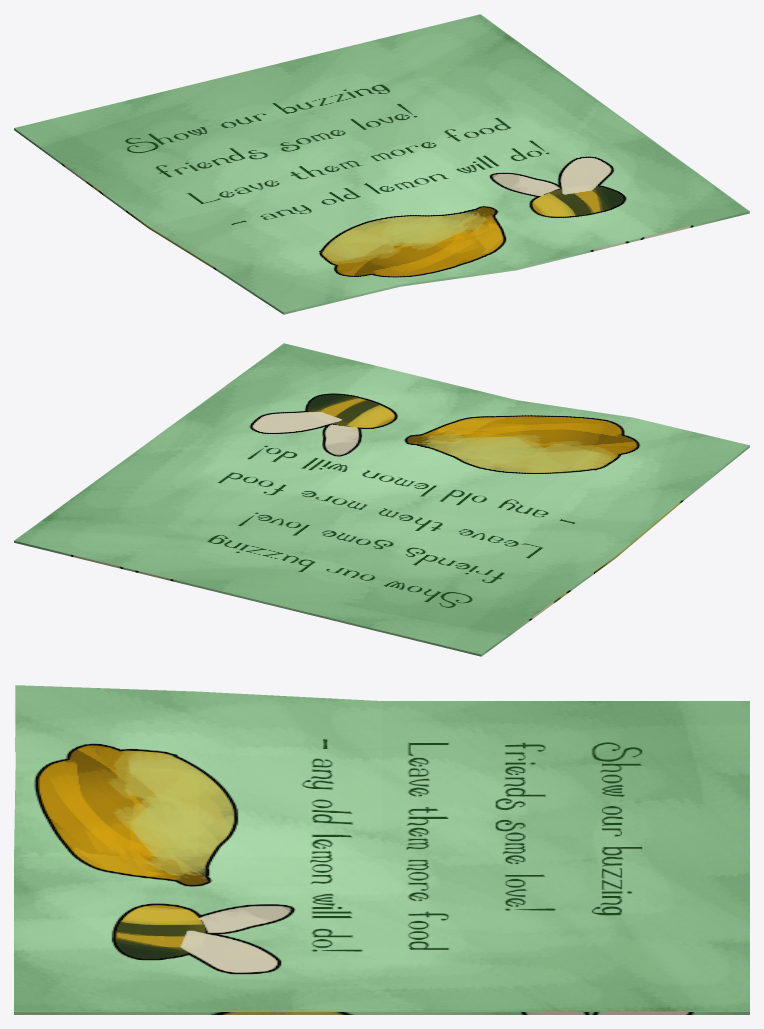
The model's file is LO_notes_beefood.glb.
3 views of the same model, one above another, from view 1: azimuth 30°, elevation 25°; view 2: azimuth 150°, elevation 25°; view 3: azimuth 270°, elevation 25° (orthographic). The views are drawn at different scales.
Parts seen in each view (by area): view 1: Plane.004; view 2: Plane.004; view 3: Plane.004.
Part boxes in pixels (left/top/right/bottom): Plane.004: left=14, top=14, right=749, bottom=314; Plane.004: left=14, top=343, right=749, bottom=656; Plane.004: left=14, top=685, right=749, bottom=1014.
Bounding box in the file's own units: 0.1099 × 0.00316 × 0.1099.
1 material, 1 textured.
